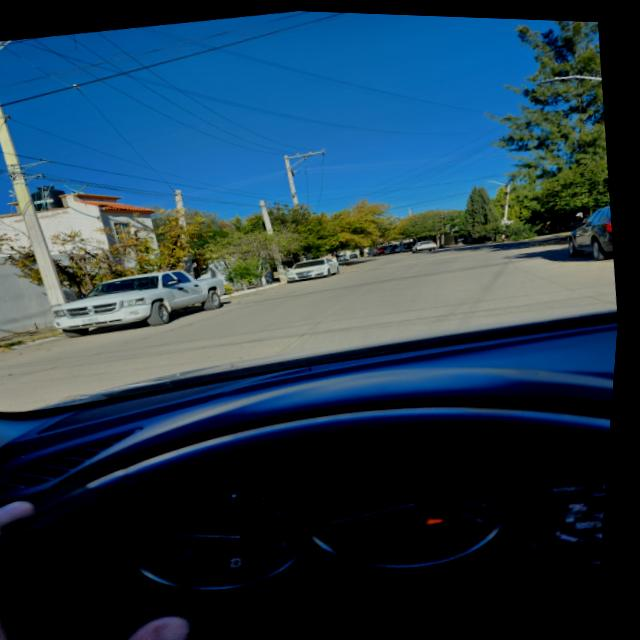Auto: (50, 259, 236, 344), (565, 198, 620, 260), (287, 251, 344, 281), (415, 233, 441, 251), (391, 238, 413, 252), (385, 241, 405, 252), (378, 242, 394, 252)
